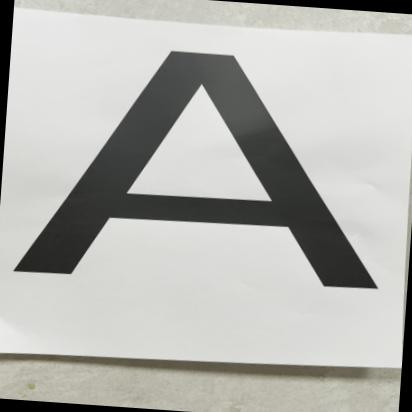seat: (0, 10, 412, 349)
